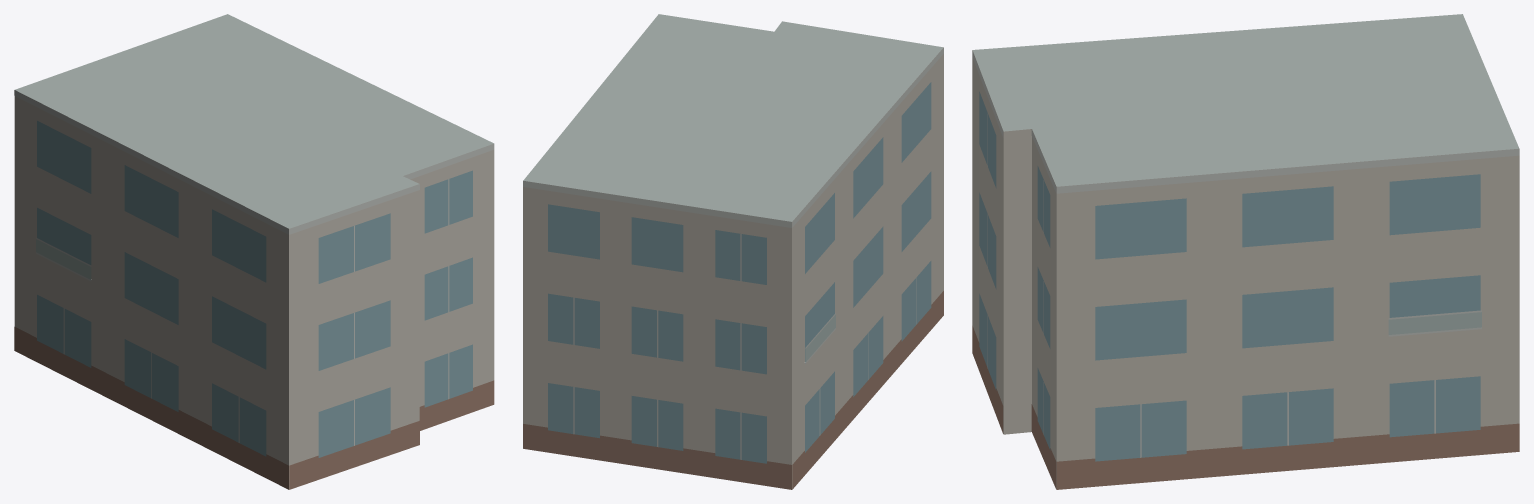
The model's file is survey-upis-33045088.glb.
3 views of the same model, side by side, from view 1: azimuth 30°, elevation 25°; view 2: azimuth 150°, elevation 25°; view 3: azimuth 270°, elevation 25° (orthographic). The views are drawn at different scales.
Parts seen in each view (by area): view 1: survey-upis-33045088.tmp; view 2: survey-upis-33045088.tmp; view 3: survey-upis-33045088.tmp.
Boxes of the visible parts, bbox=[...] form: survey-upis-33045088.tmp: bbox=[14, 14, 494, 489]; survey-upis-33045088.tmp: bbox=[523, 14, 943, 489]; survey-upis-33045088.tmp: bbox=[972, 14, 1519, 489].
Size of the model in its own units: 12.97 by 10.6 by 17.35.
